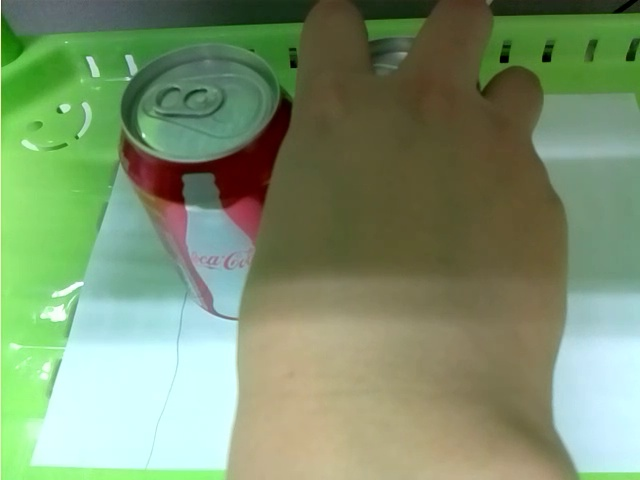cocacola: (119, 43, 289, 323)
hand: (257, 1, 575, 477)
